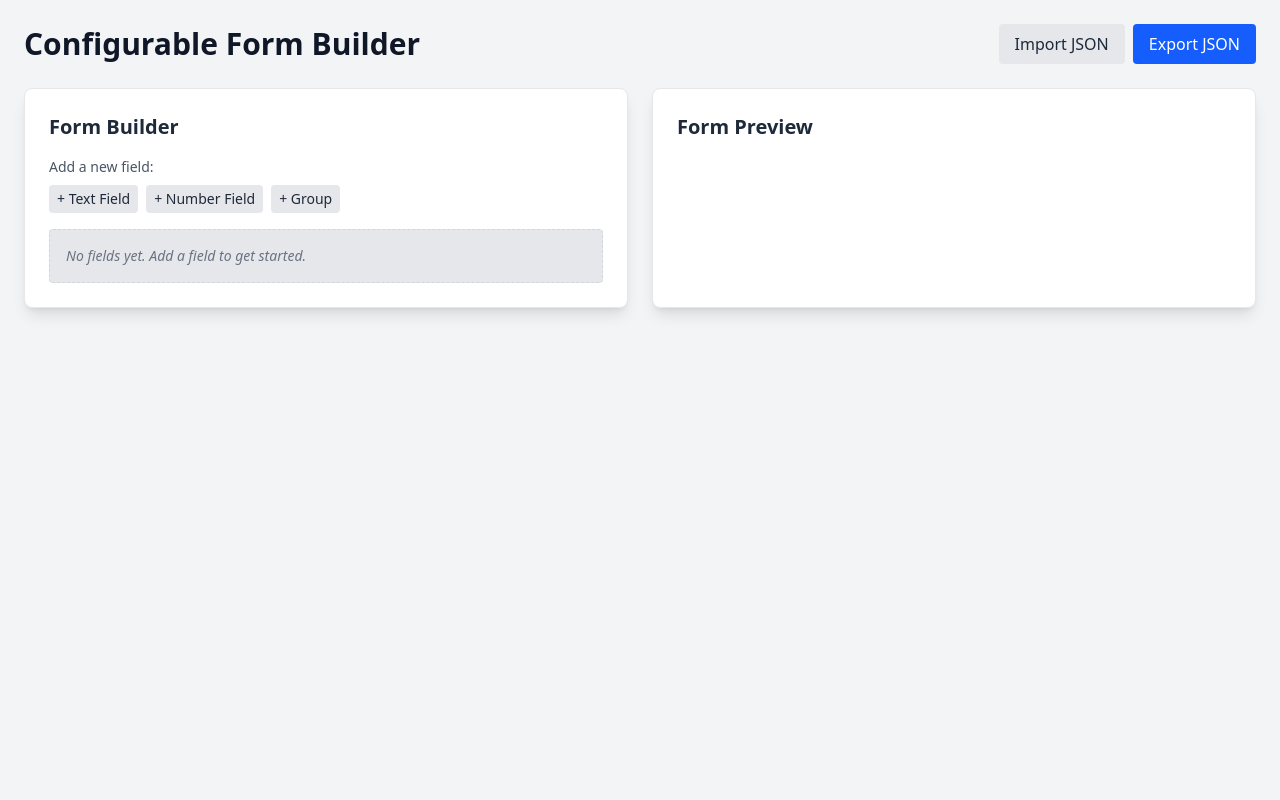
Test case: ConfigurableFormBuilder › adding fields › adds number field when button is clicked
Click the button "+ Number Field".
click(205, 199)  # box top-left (146, 185), bottom-right (263, 213)
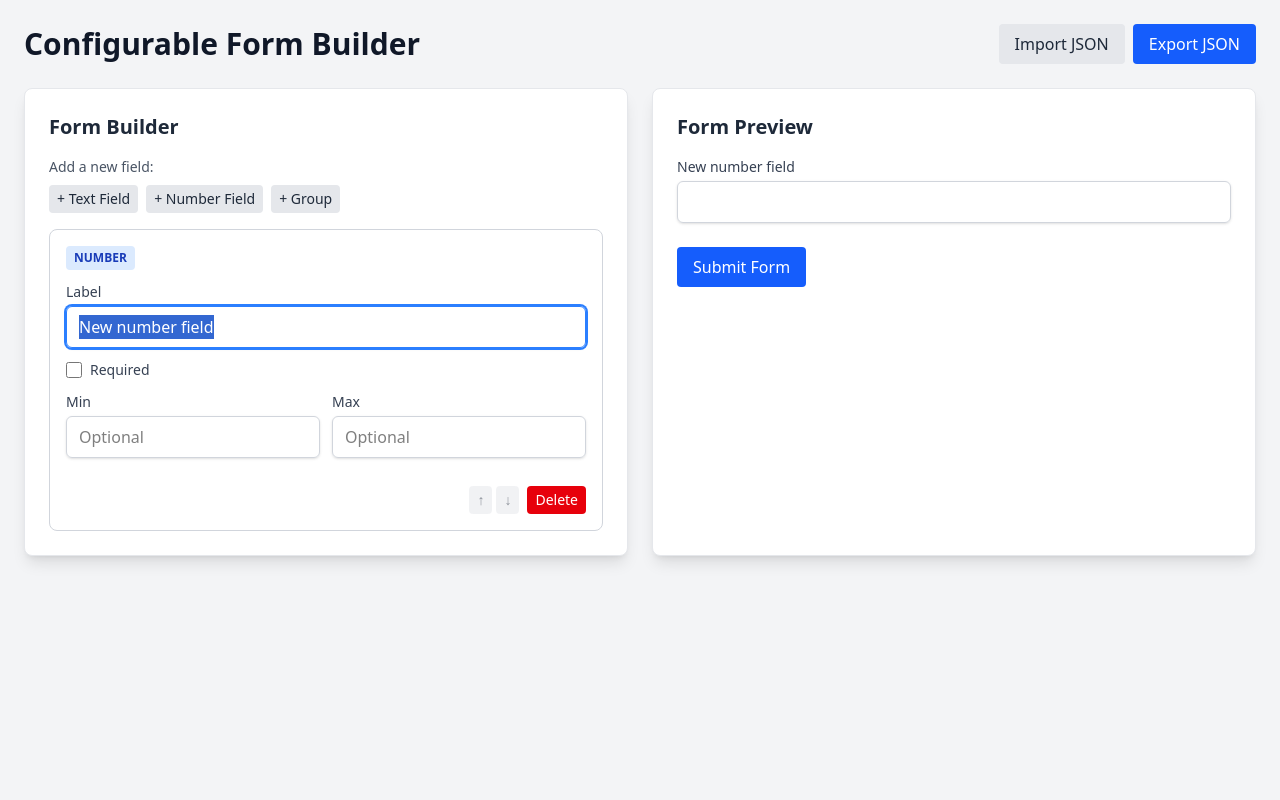
Now the number field labelled "Min" is shown, box top-left (66, 416), bottom-right (320, 458)
